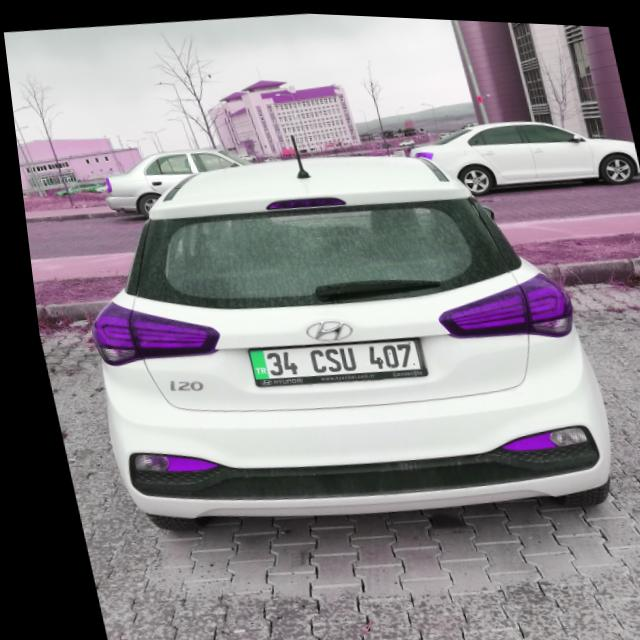license_plate: (239, 330, 417, 383)
